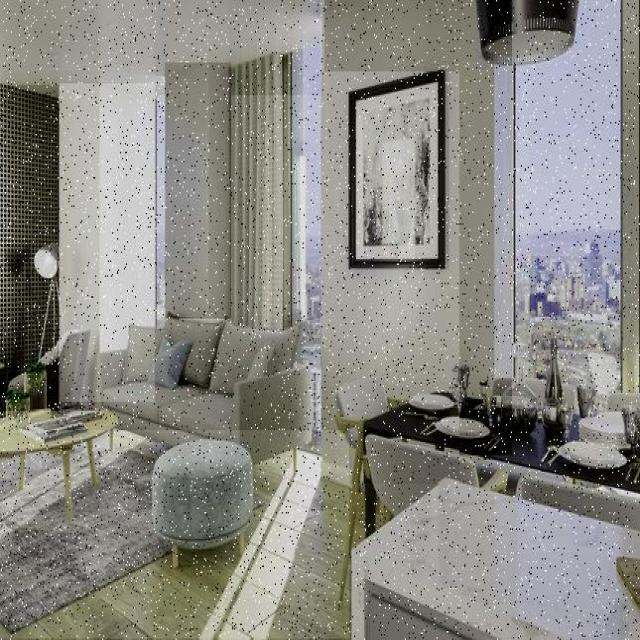Wall: (325, 0, 512, 455), (0, 431, 349, 639), (321, 73, 459, 484), (60, 84, 155, 402), (0, 1, 320, 95), (0, 86, 59, 411), (165, 63, 231, 319), (621, 0, 640, 391)
